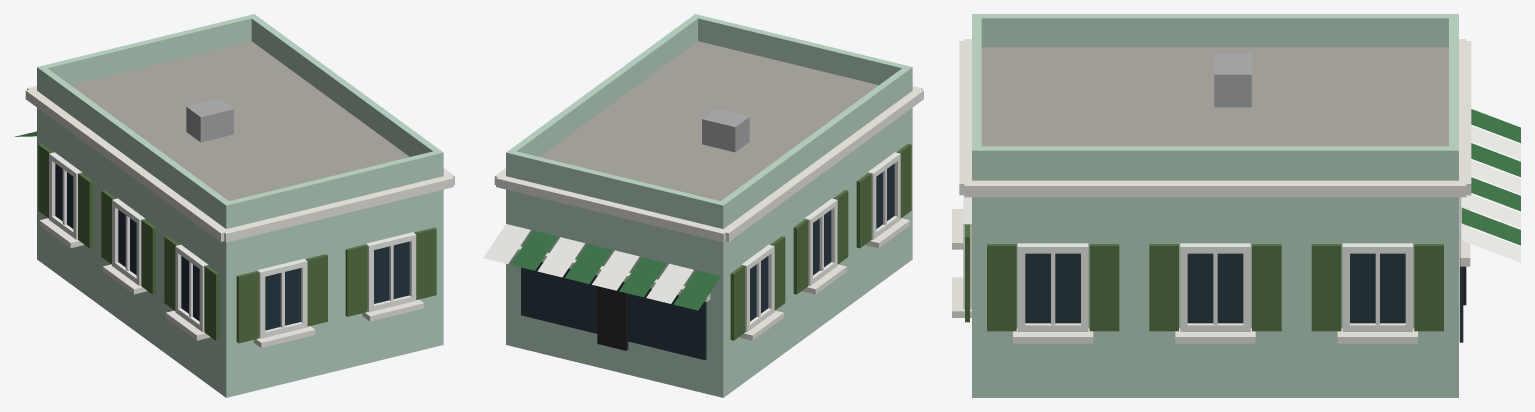
3 renders of one model, left to right at view 1: azimuth 30°, elevation 25°; view 2: azimuth 150°, elevation 25°; view 3: azimuth 270°, elevation 25°, orthographic. The views are drawn at different scales.
Parts seen in each view (by area): view 1: b9034; view 2: b9034; view 3: b9034.
Boxes of the visible parts, box(x1,y1,x2,y2) form: b9034: box(14, 14, 454, 397); b9034: box(483, 14, 923, 397); b9034: box(952, 14, 1520, 397).
Bounding box in the file's own units: 2931 × 2237 × 4598.
